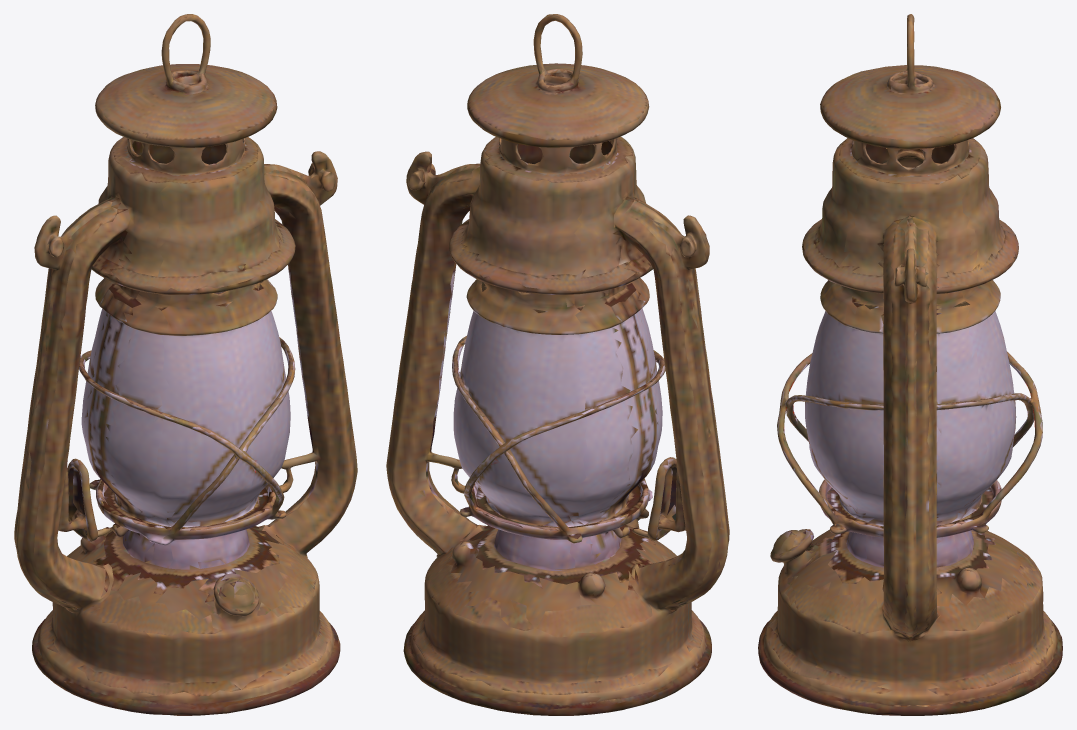
The model's file is lantern.glb.
3 views of the same model, side by side, from view 1: azimuth 30°, elevation 25°; view 2: azimuth 150°, elevation 25°; view 3: azimuth 270°, elevation 25° (orthographic).
Bounding box in the file's own units: 0.5576 × 1 × 0.4356.
Materials: 1 (1 with a texture image).
